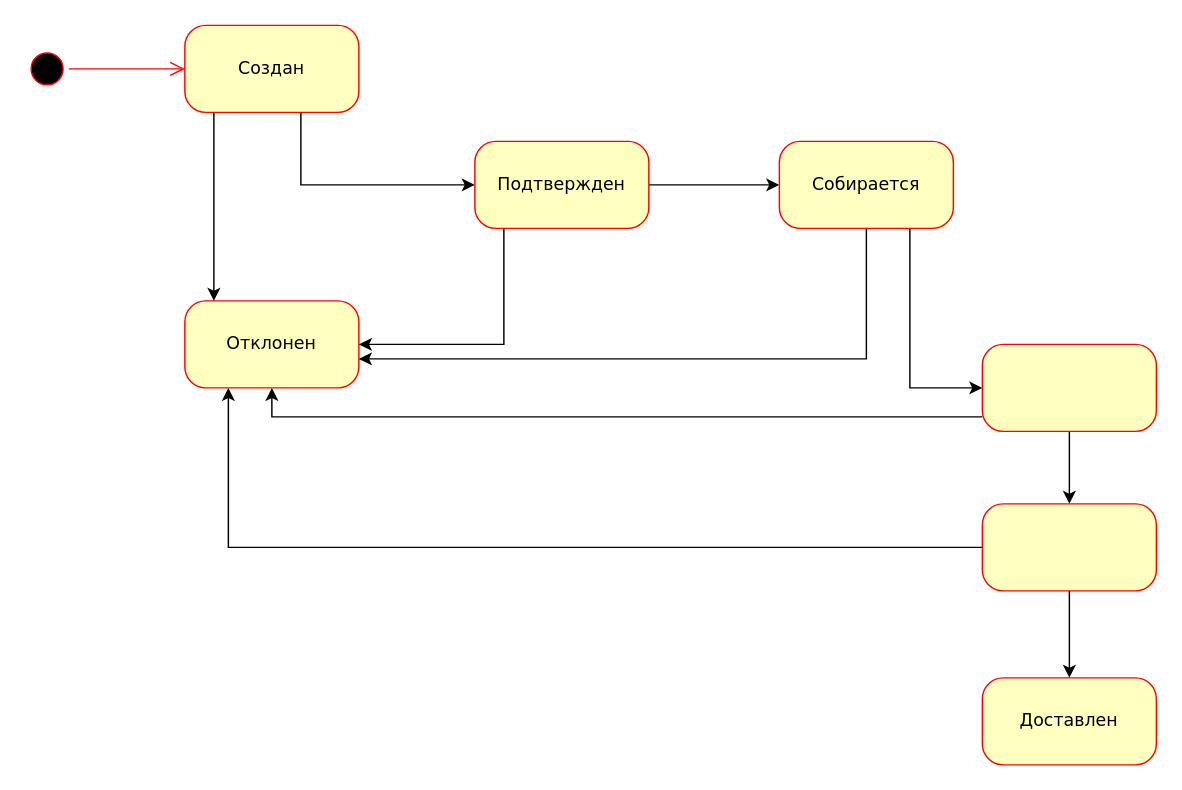
The diagram is 1182 pixels wide and 790 high, and some of its shapes have lost their labels. Each missing label, with the box of its shape:
Доставляется: (981, 502, 1156, 591)
Ожидает курьера: (981, 343, 1156, 431)
